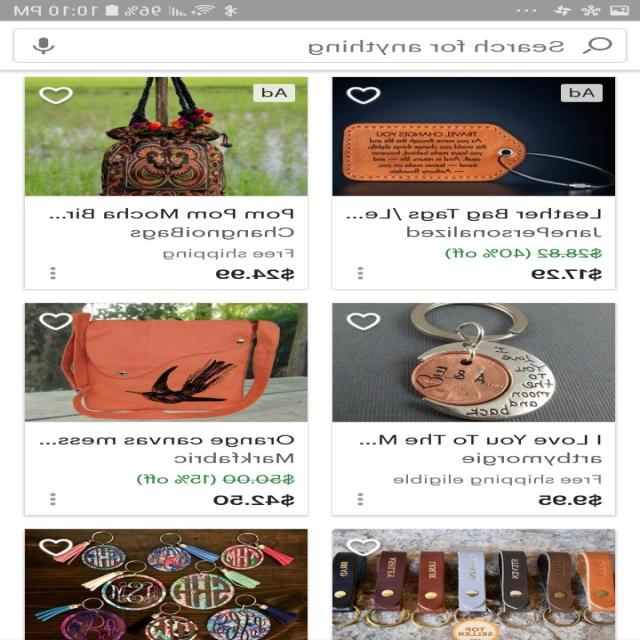EditText: (13, 28, 628, 63)
Icon: (39, 86, 75, 105), (346, 538, 382, 556), (348, 86, 382, 104), (40, 312, 74, 330), (346, 313, 381, 330), (39, 538, 74, 555), (582, 37, 612, 54), (33, 37, 56, 55), (358, 266, 366, 280), (50, 492, 58, 506), (50, 267, 58, 280), (358, 492, 364, 506)
Image: (25, 302, 308, 422), (25, 76, 308, 196), (332, 77, 616, 196), (332, 303, 616, 422), (332, 528, 616, 640), (25, 528, 308, 640)
Text: (308, 40, 564, 55), (346, 208, 602, 222), (41, 434, 295, 447), (49, 207, 294, 219), (360, 434, 602, 445), (406, 225, 603, 238), (394, 474, 602, 486), (130, 226, 296, 240), (461, 452, 602, 466), (137, 473, 296, 485), (445, 248, 603, 260), (164, 248, 296, 260), (175, 452, 294, 462), (214, 493, 296, 507), (216, 267, 296, 281), (532, 267, 602, 281), (538, 493, 602, 506)
TextButton: (560, 84, 604, 102), (253, 84, 296, 102)
